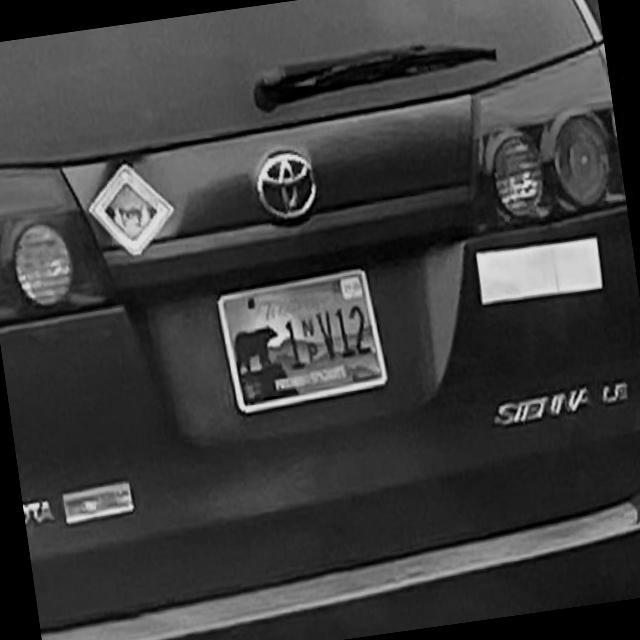LicensePlate: (215, 264, 391, 417)
